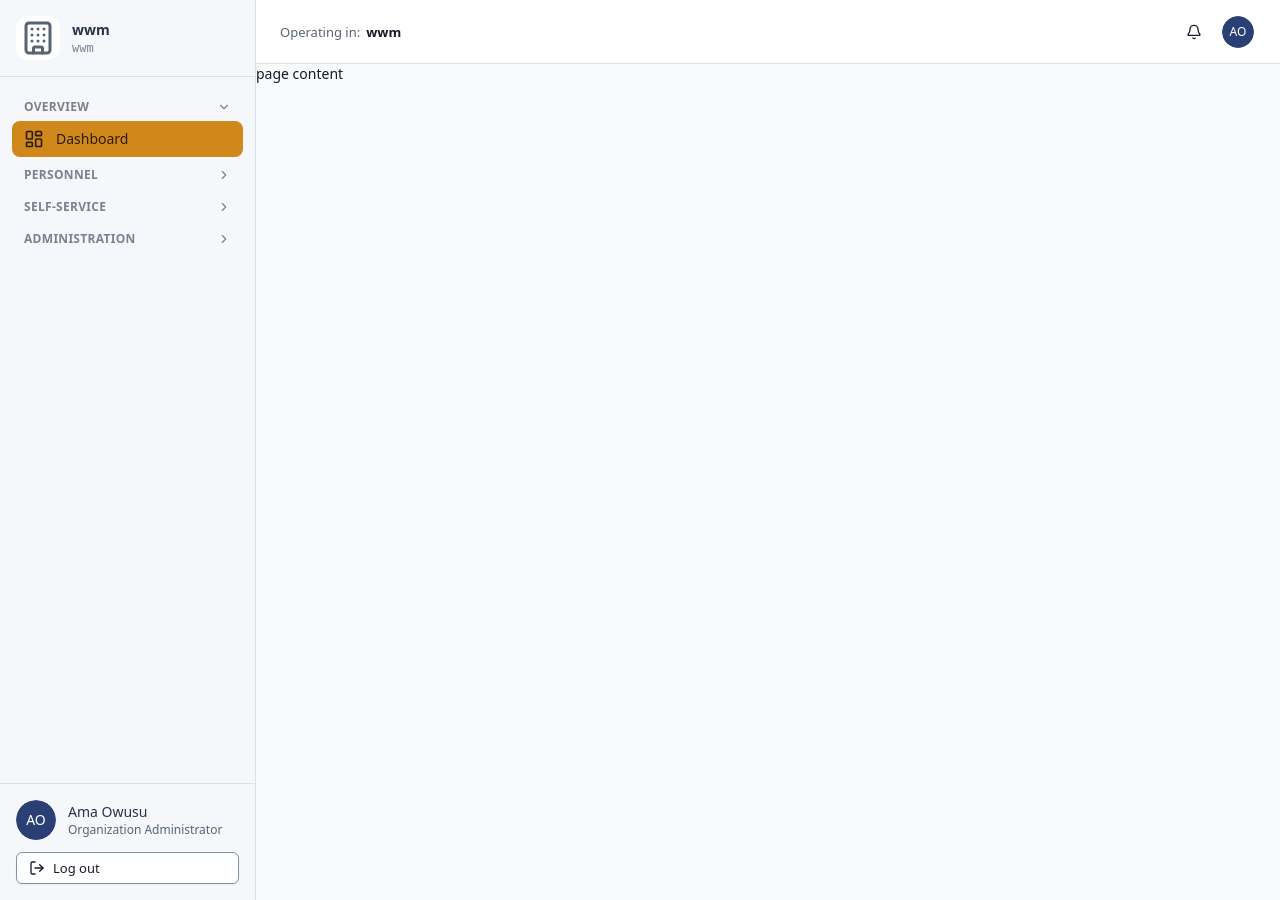
Test case: AppShell grouped navigation › starts other groups collapsed, and expands one on click without collapsing others
Click the button with test id "button-nav-group-personnel" at (128,175), box [12, 161, 243, 189]
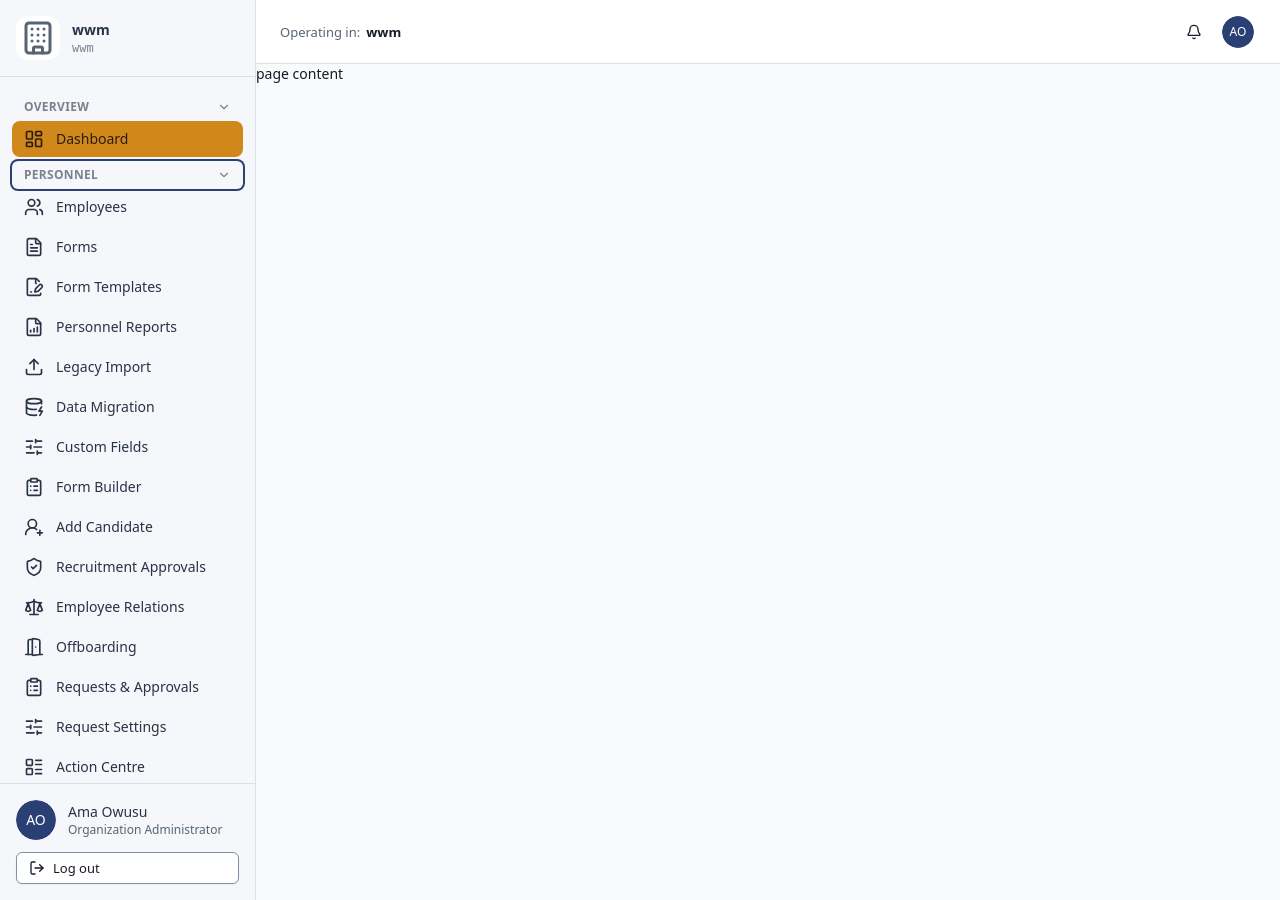
Expected: the button with test id "button-nav-group-personnel" is expanded, [12, 161, 243, 189]
Expected: the link with test id "link-nav-employees" is shown, [24, 197, 127, 217]
